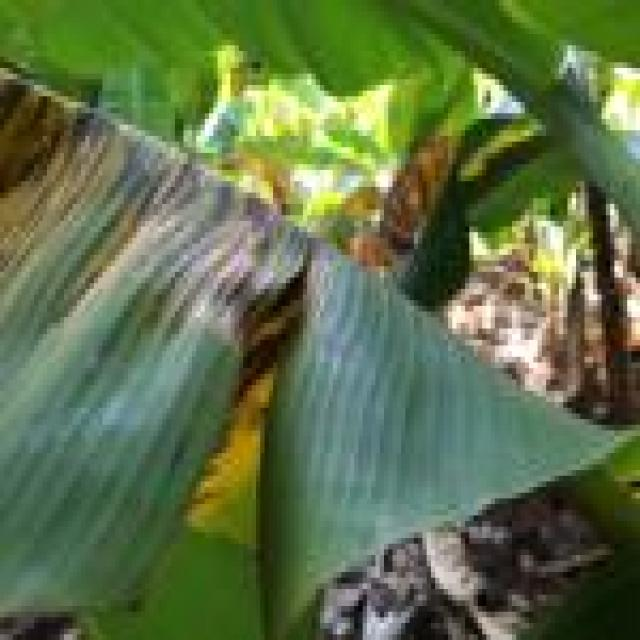Early_rust: (0, 37, 378, 583)
